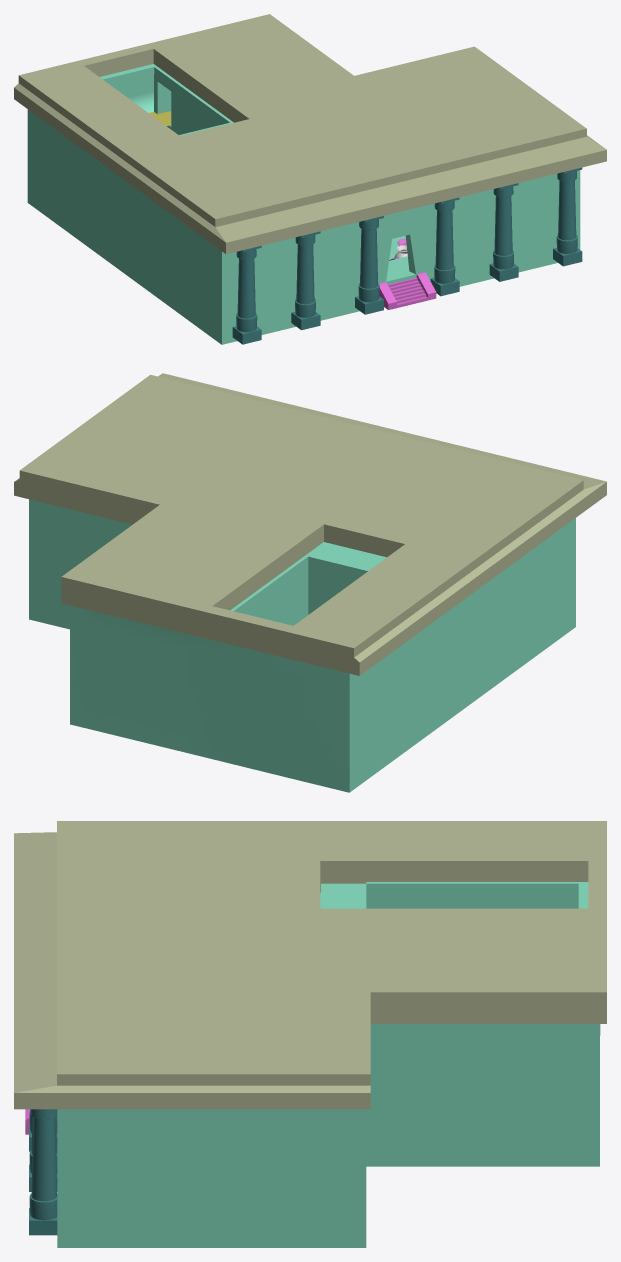
The model's file is Temple_Right_Floor_1.fbx.
3 renders of one model, top to bottom at view 1: azimuth 30°, elevation 25°; view 2: azimuth 150°, elevation 25°; view 3: azimuth 270°, elevation 25°, orthographic. The views are drawn at different scales.
Visible parts, largest first — view 1: Roof_Floor_1_Right, Temple_Right_Floor_1, Temple:pCube72, Column_Temple_Right_Floor_1, Temple:pCube75, Temple:pCube76, Temple:pCube13, Column_In_Temple_Right_Floor1_9, Stairs_Right_Floor1_1; view 2: Roof_Floor_1_Right, Temple_Right_Floor_1; view 3: Roof_Floor_1_Right, Temple_Right_Floor_1, Temple:pCube76.
Part boxes in pixels (bbox=[...]): Roof_Floor_1_Right: bbox=[14, 14, 606, 254]; Temple_Right_Floor_1: bbox=[27, 64, 580, 344]; Temple:pCube72: bbox=[291, 231, 320, 330]; Column_Temple_Right_Floor_1: bbox=[232, 245, 261, 344]; Temple:pCube75: bbox=[489, 183, 518, 281]; Temple:pCube76: bbox=[553, 167, 582, 266]; Temple:pCube13: bbox=[355, 216, 383, 314]; Column_In_Temple_Right_Floor1_9: bbox=[430, 197, 459, 296]; Stairs_Right_Floor1_1: bbox=[379, 272, 436, 309]; Roof_Floor_1_Right: bbox=[14, 373, 606, 675]; Temple_Right_Floor_1: bbox=[29, 499, 575, 792]; Roof_Floor_1_Right: bbox=[14, 821, 606, 1109]; Temple_Right_Floor_1: bbox=[57, 882, 600, 1247]; Temple:pCube76: bbox=[29, 1109, 57, 1235].
Bounding box in the file's own units: 2892 × 924 × 2789.
